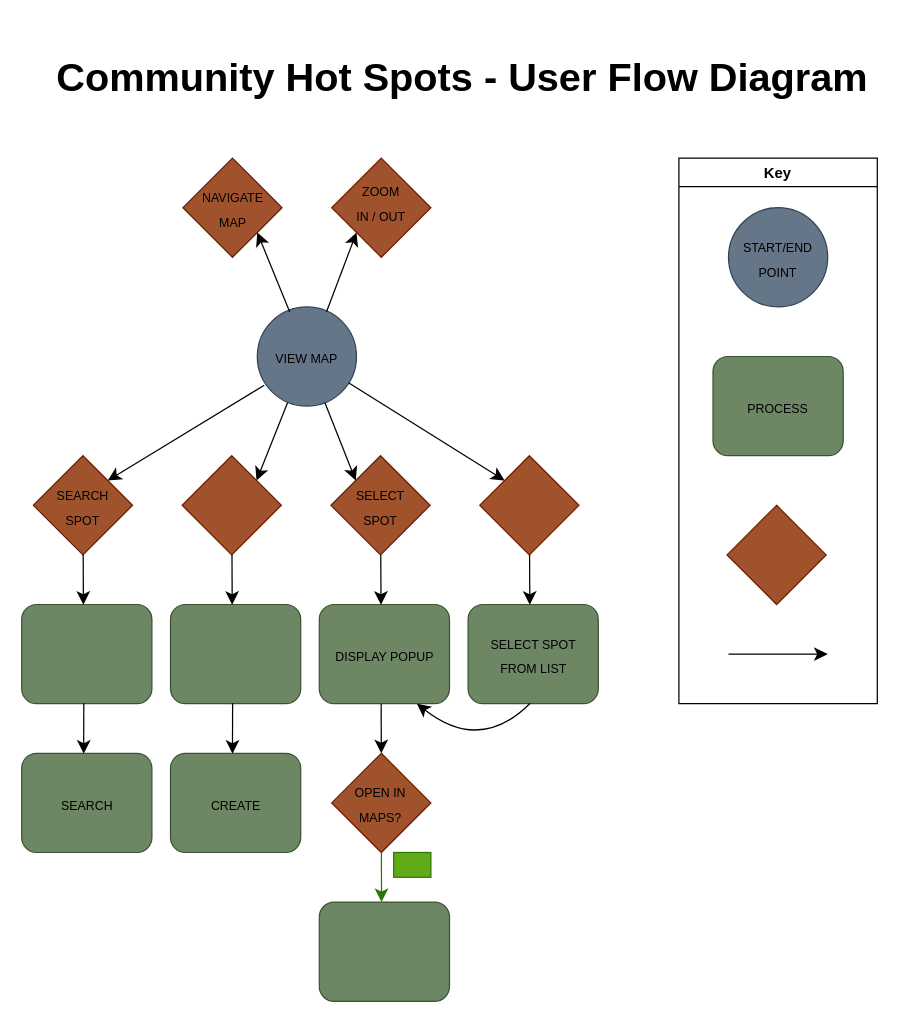
This 905x1023 diagram has some shape labels left out. Here are the shapes that lost their labels. From the top down, the centre of each, then its label:
At pixel 231 504: "CREATE SPOT".
At pixel 529 504: "SELECT CATEGORY".
At pixel 776 554: "USER DECISION".
At pixel 86 653: "ENTER NAME".
At pixel 235 653: "ENTER INFORMATION".
At pixel 411 864: "Yes".
At pixel 384 951: "OPEN GOOLE MAPS".
